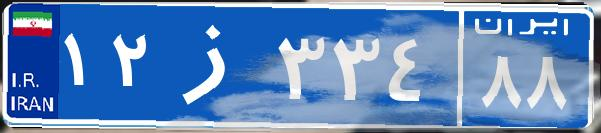1: (57, 26, 110, 107)
2: (110, 28, 158, 105)
3: (273, 28, 330, 110), (330, 28, 385, 110)
4: (385, 28, 445, 110)
8: (475, 38, 525, 113), (525, 38, 570, 115)
ز: (158, 15, 273, 115)
